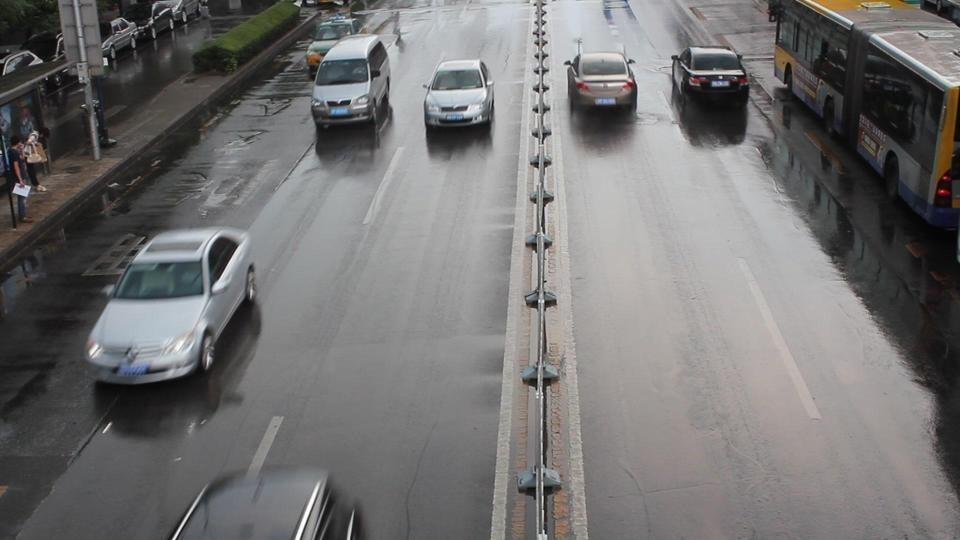car: (84, 226, 259, 387), (170, 463, 365, 539), (309, 34, 394, 131), (671, 45, 750, 107), (423, 59, 496, 126), (565, 49, 639, 114), (304, 15, 361, 79), (0, 51, 42, 78)
